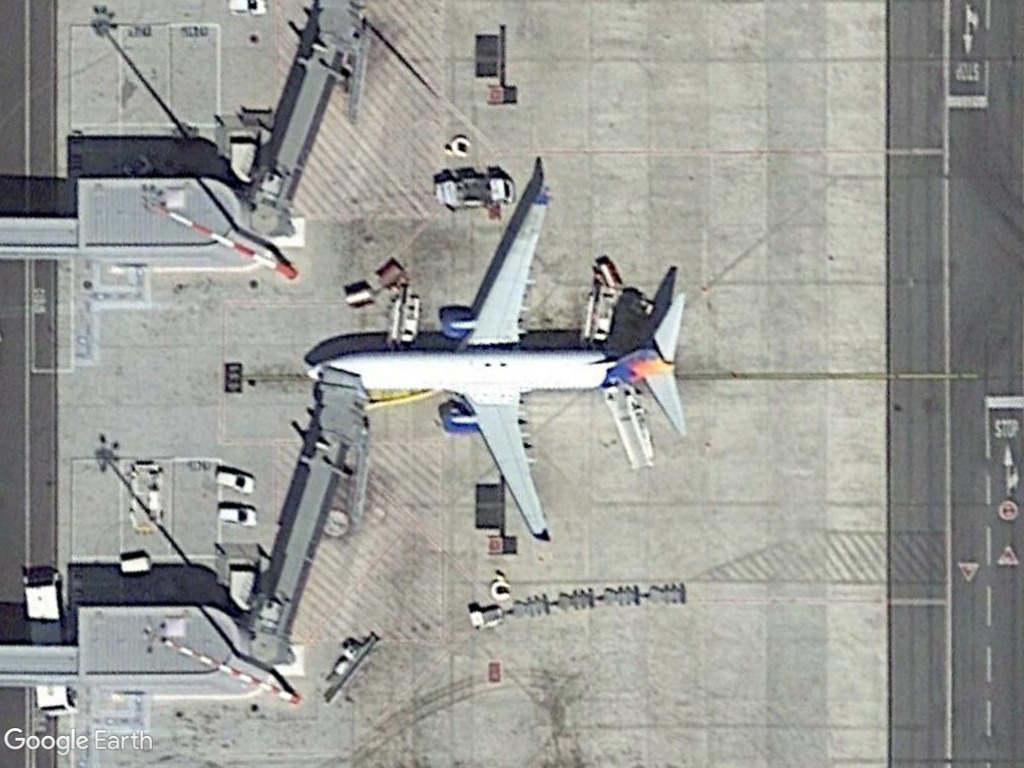airliner: (304, 172, 699, 545)
other: (466, 605, 506, 633)
van: (215, 501, 261, 529), (214, 468, 258, 496)
